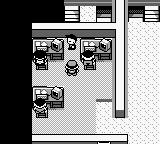leer: (33, 38, 64, 60), (80, 39, 112, 60), (33, 87, 64, 108)
main: (65, 60, 79, 76)
no-caminable: (32, 0, 125, 118), (32, 134, 128, 144), (64, 0, 112, 7), (128, 0, 160, 6)
npc: (80, 51, 96, 66), (33, 50, 48, 66), (33, 99, 48, 114), (65, 34, 78, 50)
puerta: (96, 6, 112, 22), (64, 6, 79, 22), (144, 6, 159, 21), (129, 7, 144, 22)
